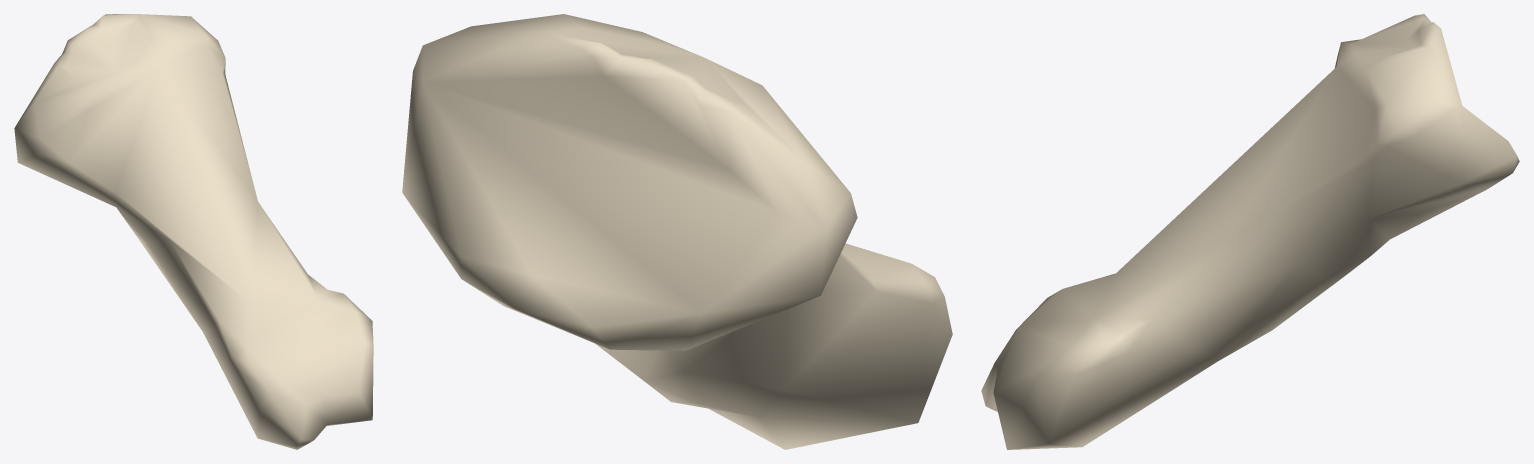
Rendered from distal-phalanx-of-second-finger-of-hand-l.glb.
3 views of the same model, side by side, from view 1: azimuth 30°, elevation 25°; view 2: azimuth 150°, elevation 25°; view 3: azimuth 270°, elevation 25° (orthographic). The views are drawn at different scales.
Visible parts, largest first — view 1: Distal phalanx of second finger of hand.l; view 2: Distal phalanx of second finger of hand.l; view 3: Distal phalanx of second finger of hand.l.
Boxes of the visible parts, x1=… form: Distal phalanx of second finger of hand.l: x1=14, y1=14, x2=373, y2=449; Distal phalanx of second finger of hand.l: x1=402, y1=14, x2=952, y2=449; Distal phalanx of second finger of hand.l: x1=981, y1=14, x2=1519, y2=449.
Bounding box in the file's own units: 0.0104 × 0.0143 × 0.0176.
